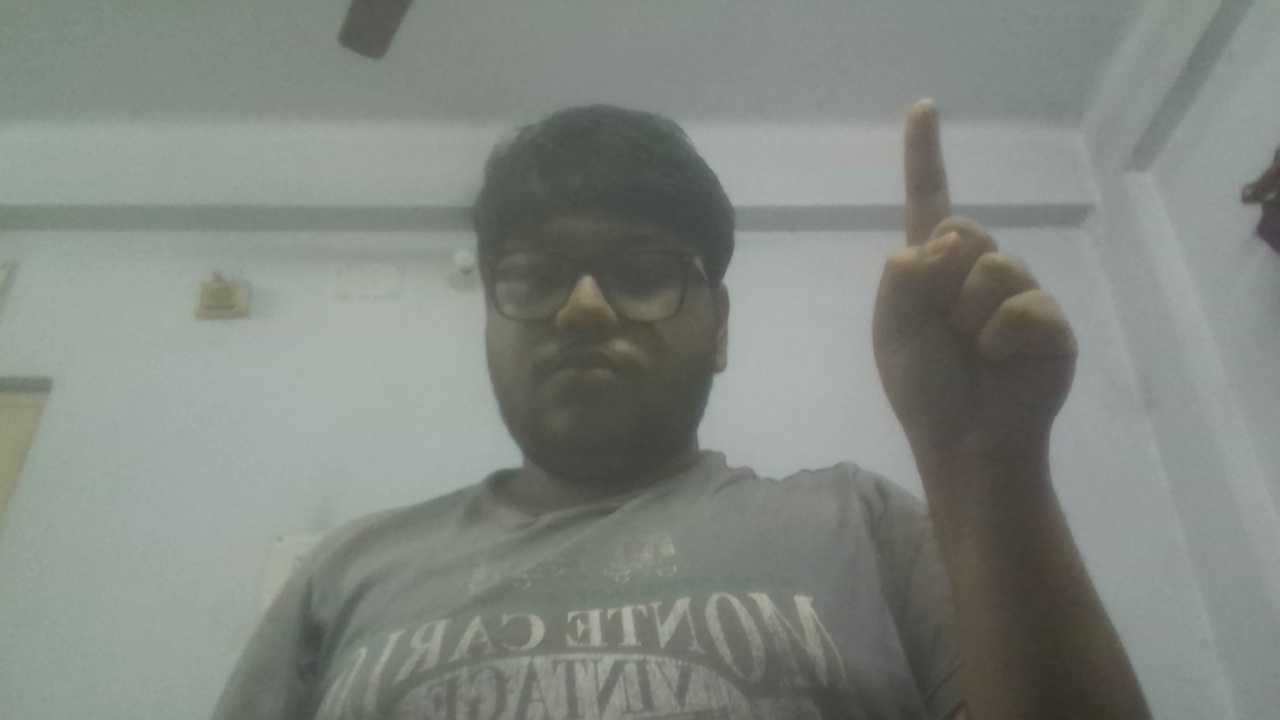Gesture1: (863, 90, 1089, 467)
